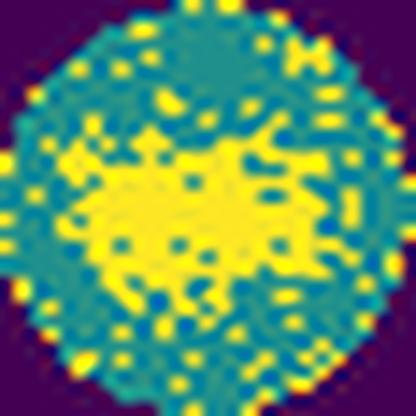Center: (56, 110, 364, 324)
